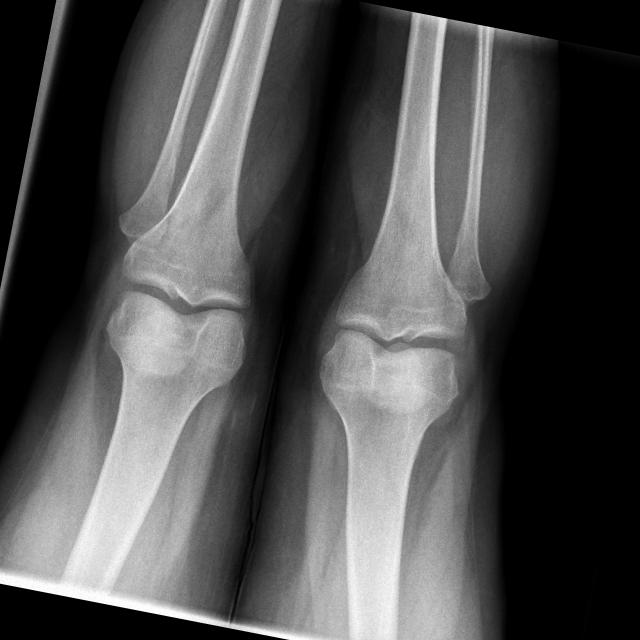Knee: (311, 260, 478, 415), (98, 229, 263, 372)
